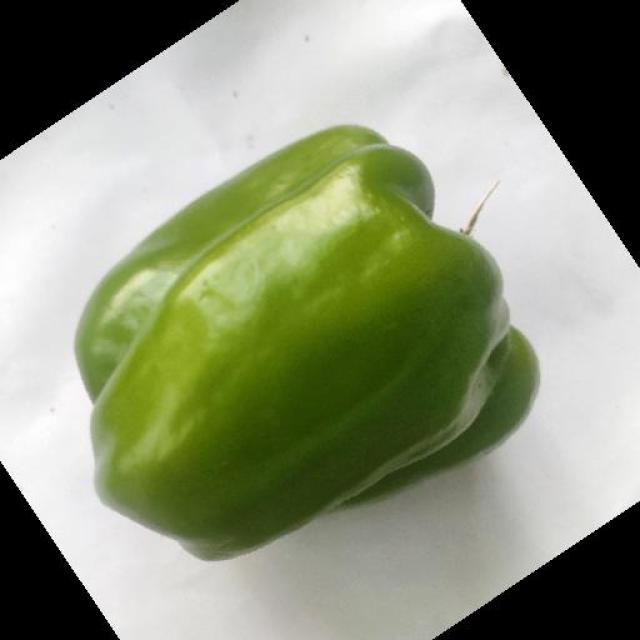Fresh_Capsicum: (86, 160, 502, 530)
